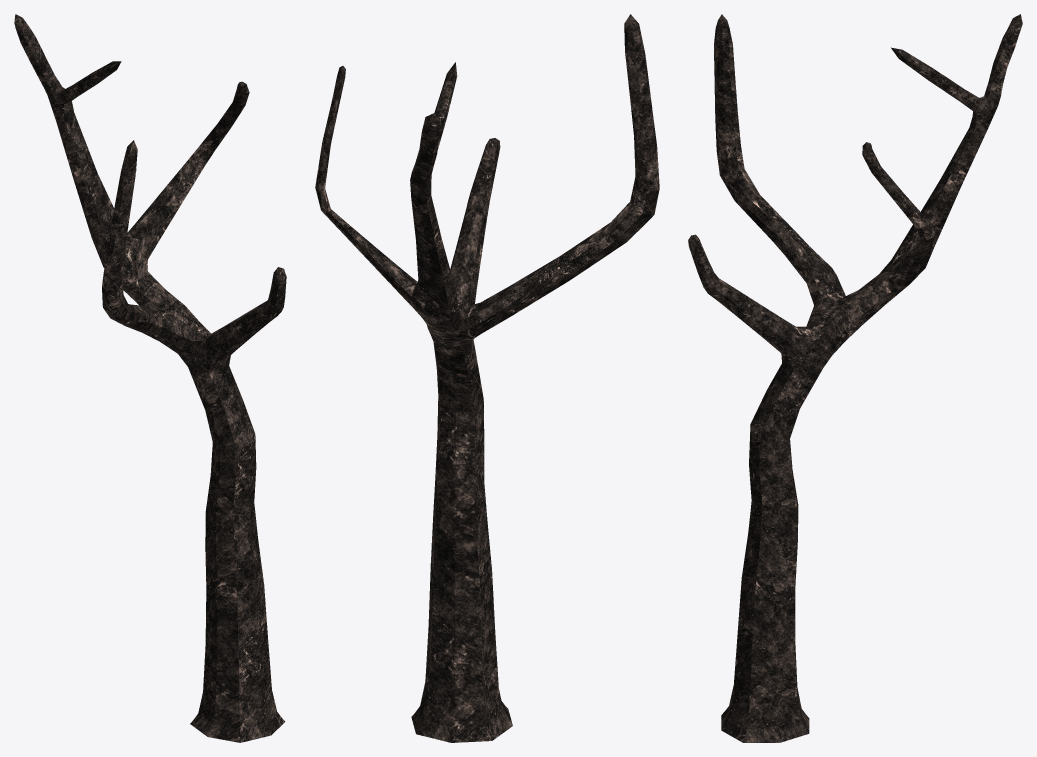
The model's file is arvore_morta_b.glb.
The picture shows the model from 3 angles, left to right: view 1: azimuth 30°, elevation 25°; view 2: azimuth 150°, elevation 25°; view 3: azimuth 270°, elevation 25°; orthographic projection. The views are drawn at different scales.
Visible parts, largest first — view 1: CommonTree_Dead_4_Cube.099; view 2: CommonTree_Dead_4_Cube.099; view 3: CommonTree_Dead_4_Cube.099.
Boxes of the visible parts, x1,y1,x2,y2 form: CommonTree_Dead_4_Cube.099: (14,14,286,742); CommonTree_Dead_4_Cube.099: (315,14,659,742); CommonTree_Dead_4_Cube.099: (688,14,1022,742).
Size of the model in its own units: 0.8161 by 2.37 by 1.08.
1 material, 1 textured.
